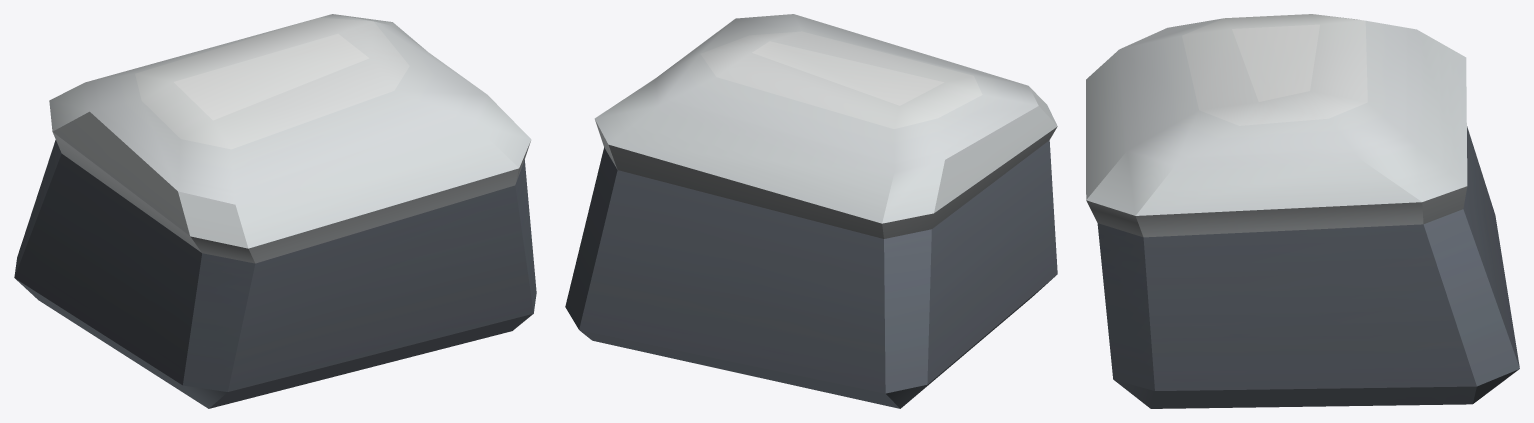
The model's file is Obstacle_Winter.fbx.
The picture shows the model from 3 angles, left to right: view 1: azimuth 30°, elevation 25°; view 2: azimuth 150°, elevation 25°; view 3: azimuth 270°, elevation 25°; orthographic projection. The views are drawn at different scales.
Parts seen in each view (by area): view 1: Obstacle_Winter; view 2: Obstacle_Winter; view 3: Obstacle_Winter.
Boxes of the visible parts, bbox=[...] form: Obstacle_Winter: bbox=[14, 14, 536, 408]; Obstacle_Winter: bbox=[565, 14, 1057, 408]; Obstacle_Winter: bbox=[1086, 14, 1519, 408].
Bounding box in the file's own units: 94.46 × 63.3 × 92.26.
